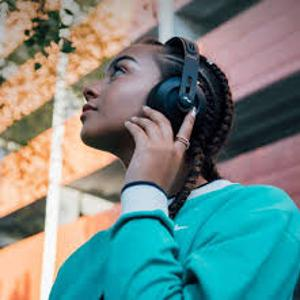Headphones: (138, 32, 212, 126)
